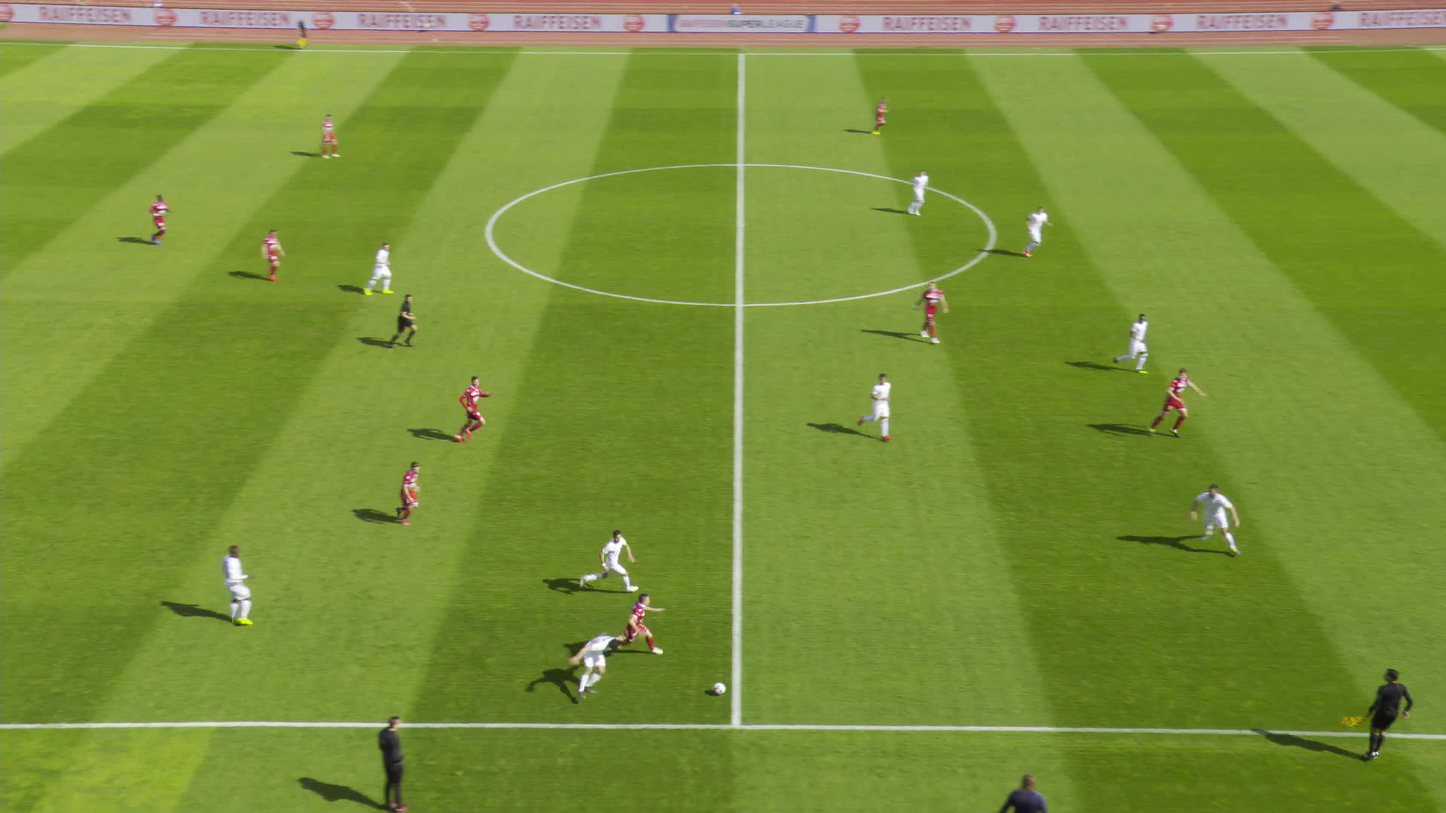ball: (712, 682, 723, 693)
player: (1155, 370, 1218, 439), (567, 626, 624, 699), (1189, 484, 1242, 556), (581, 530, 635, 594), (227, 544, 261, 626), (620, 592, 662, 652), (453, 376, 490, 443), (1110, 312, 1149, 374), (912, 280, 948, 343), (864, 371, 897, 438), (398, 461, 428, 524), (1021, 206, 1053, 257), (365, 242, 394, 294), (267, 228, 292, 280), (148, 193, 170, 246), (322, 113, 343, 158), (912, 170, 931, 215), (876, 97, 895, 135)
referee: (1362, 668, 1413, 760), (392, 294, 420, 348), (296, 19, 307, 47)
